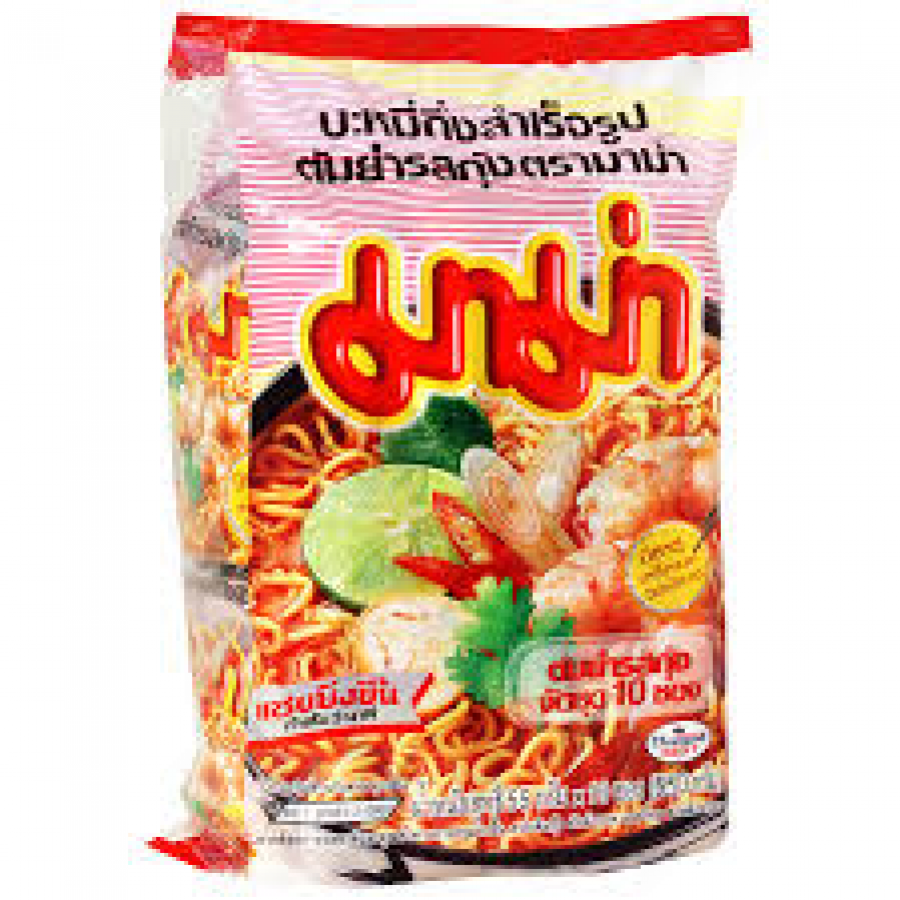Snack: (102, 6, 760, 898)
